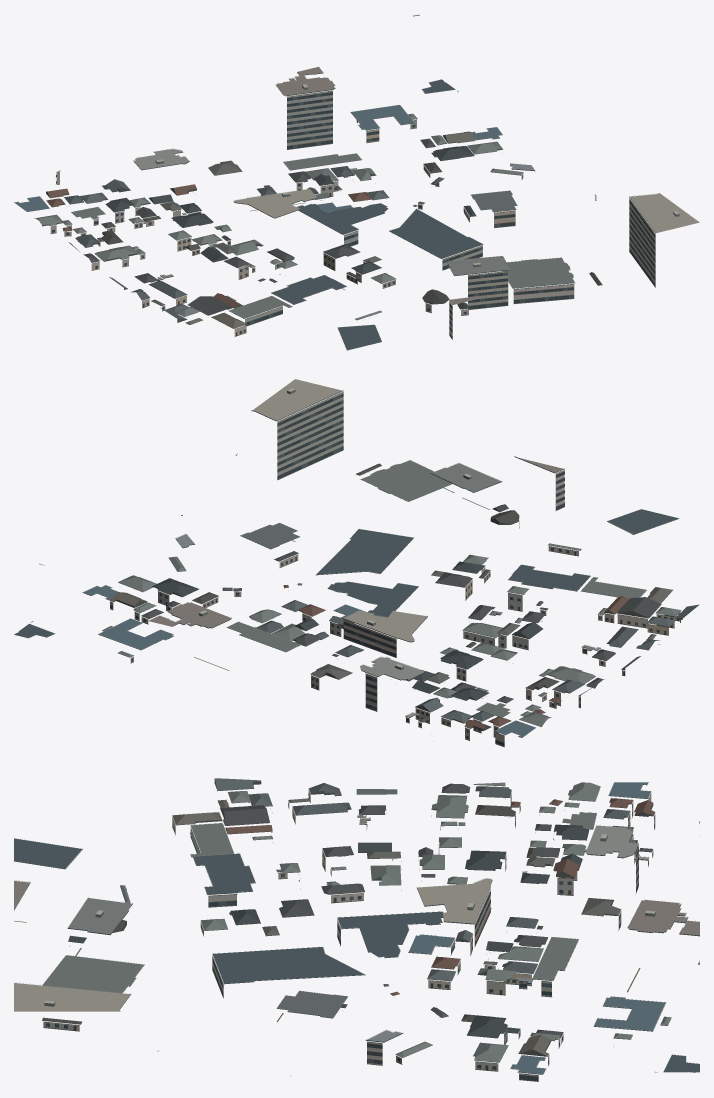
3 views of the same model, one above another, from view 1: azimuth 30°, elevation 25°; view 2: azimuth 150°, elevation 25°; view 3: azimuth 270°, elevation 25° (orthographic). The views are drawn at different scales.
Parts seen in each view (by area): view 1: r1-c4; view 2: r1-c4; view 3: r1-c4.
Part boxes in pixels (x1,y1,x2,y2): r1-c4: [14, 14, 699, 350]; r1-c4: [14, 379, 699, 747]; r1-c4: [14, 778, 699, 1081].
Bounding box in the file's own units: 250 × 44.91 × 250.
